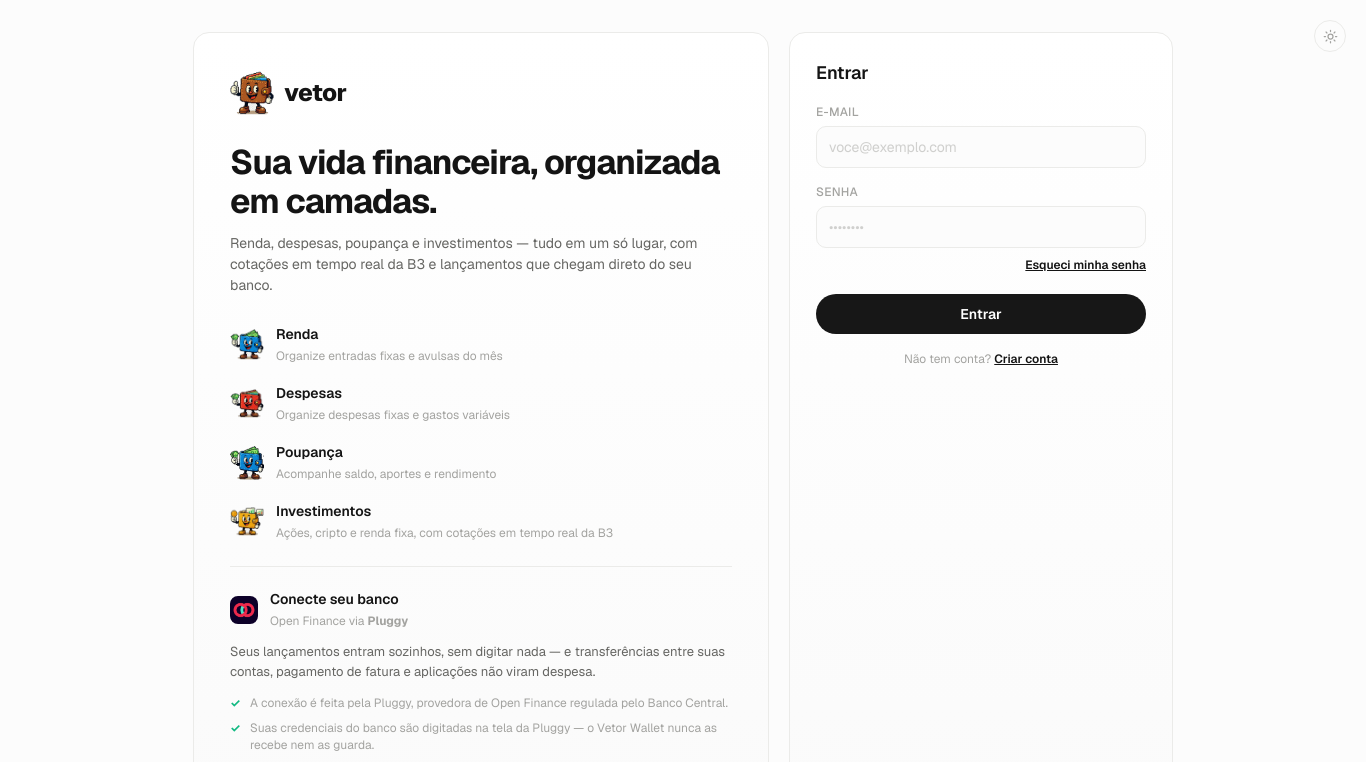
Test case: AuthPage — etapa de confirmação (T-106b) › cadastro pendente leva à tela de código, com o e-mail na tela
Click the button "Criar conta": coordinates (1026, 359) x1=994 y1=350 x2=1058 y2=368
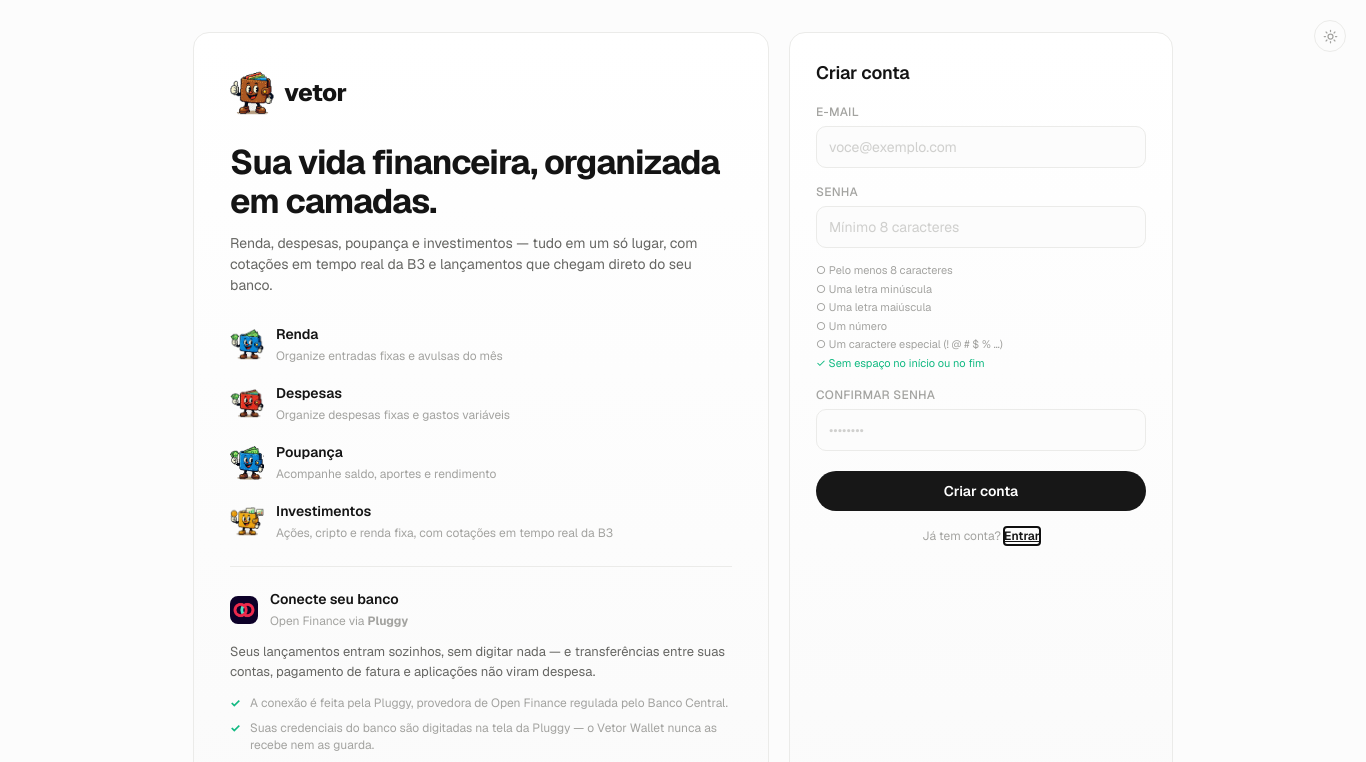
In the field labelled "E-mail": coordinates (981, 147) x1=816 y1=126 x2=1146 y2=168, type "alice@example.com"
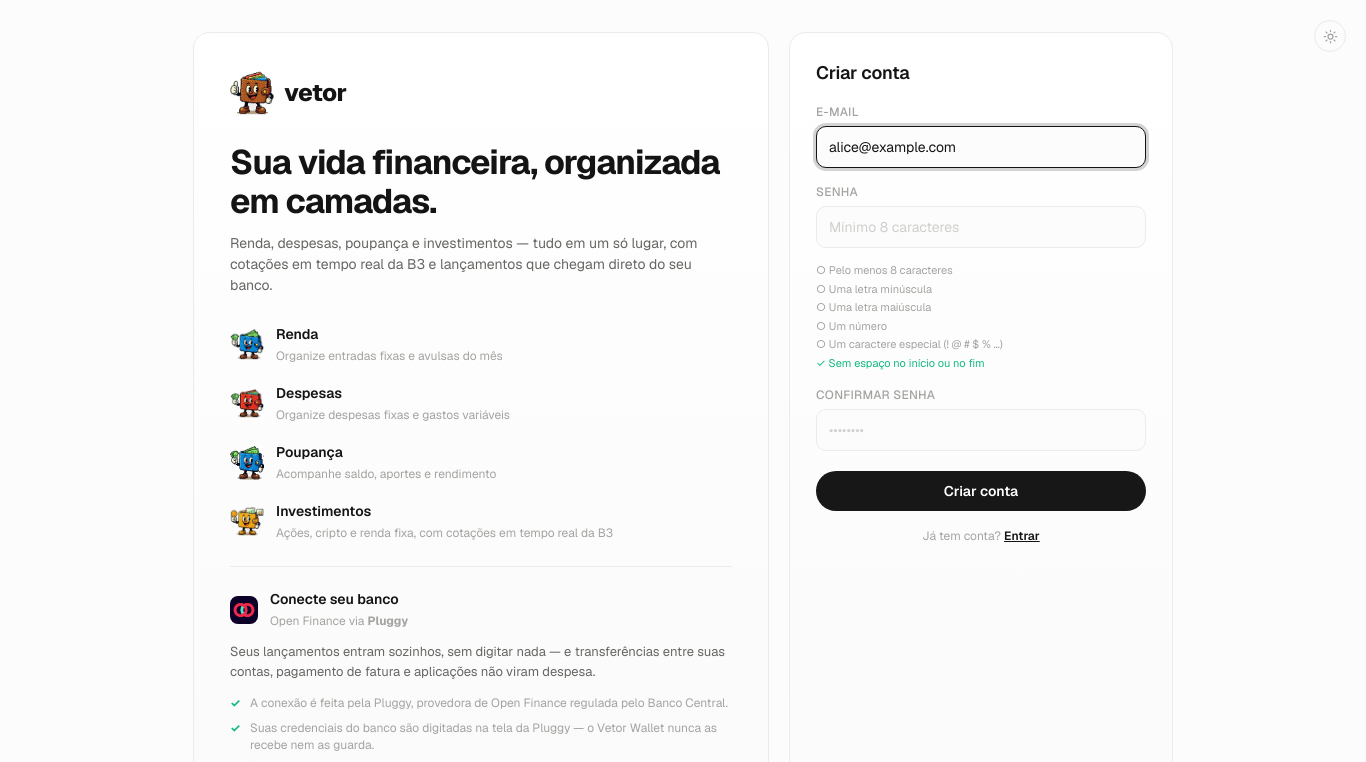
In the password field labelled "Senha": coordinates (981, 227) x1=816 y1=206 x2=1146 y2=248, type "Senha123!"
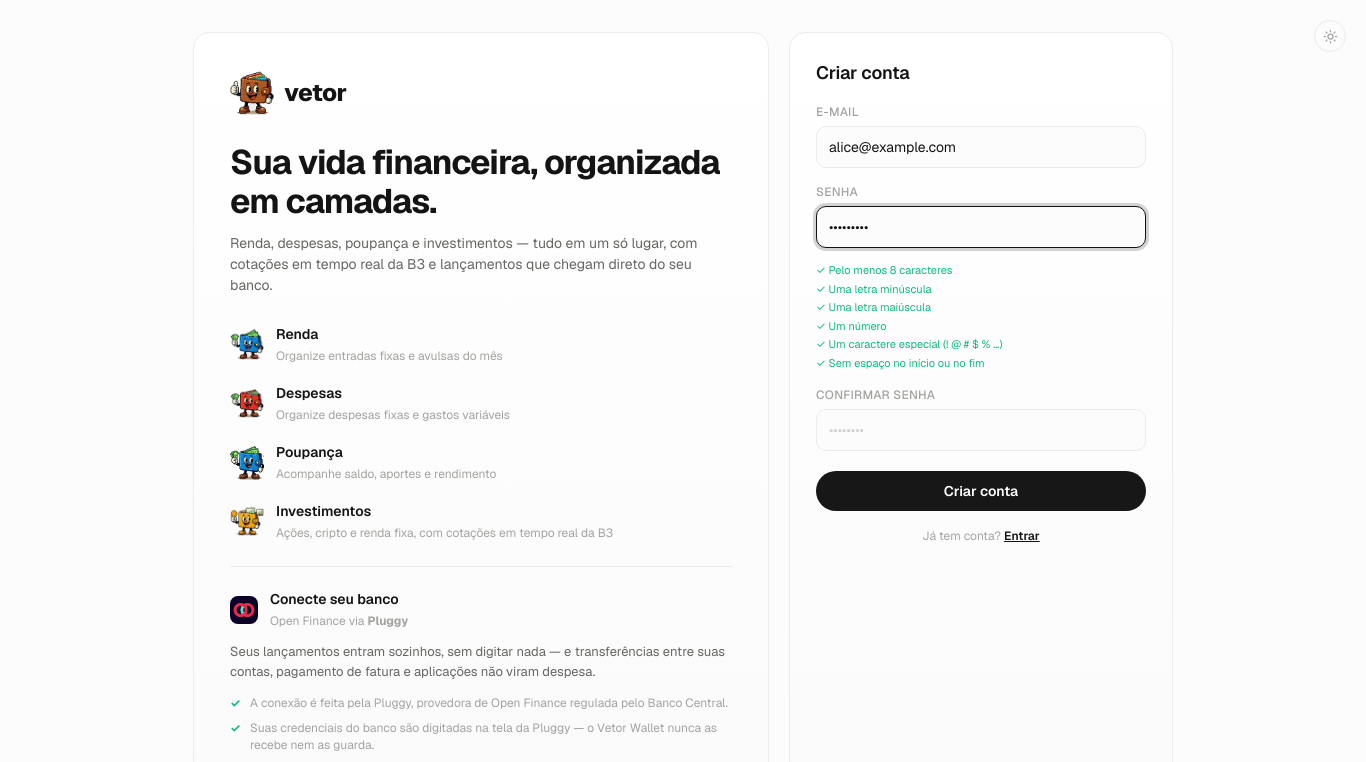
In the password field labelled "Confirmar senha": coordinates (981, 430) x1=816 y1=409 x2=1146 y2=451, type "Senha123!"
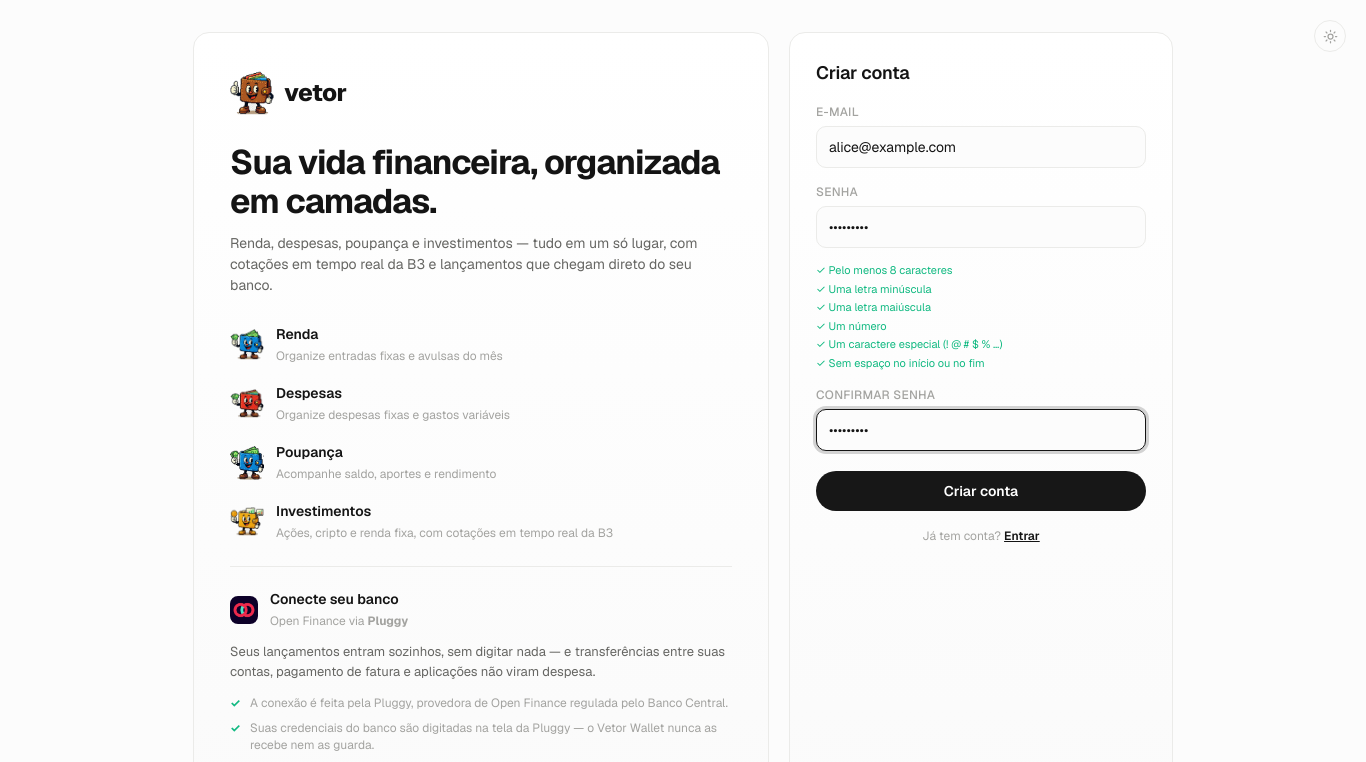
Click the button "Criar conta": coordinates (981, 491) x1=816 y1=471 x2=1146 y2=511
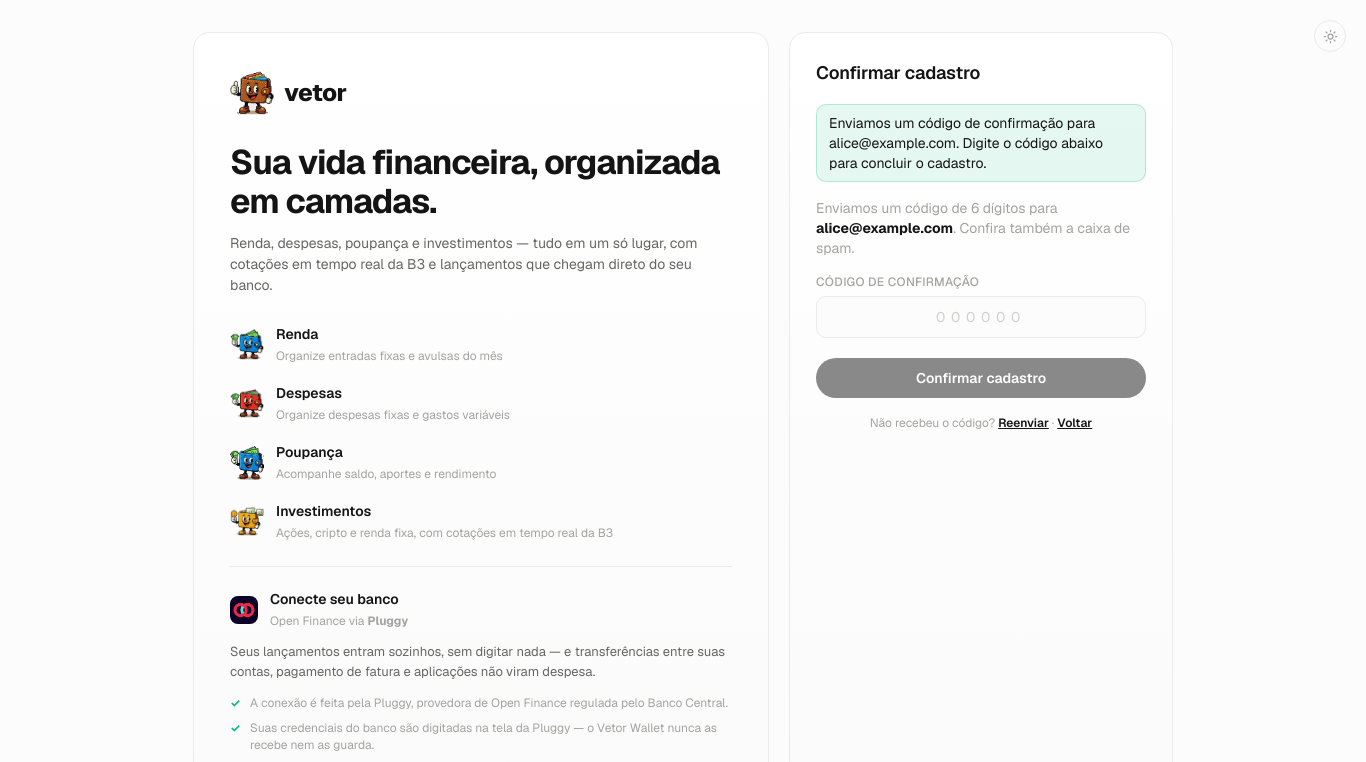
Check: the heading "Confirmar cadastro" is shown, box x1=816 y1=61 x2=980 y2=84
Check: the text "Enviamos um código de 6 dígitos" is shown, box x1=816 y1=198 x2=1146 y2=258
Check: the text "alice@example.com" is shown, box x1=816 y1=219 x2=953 y2=237
